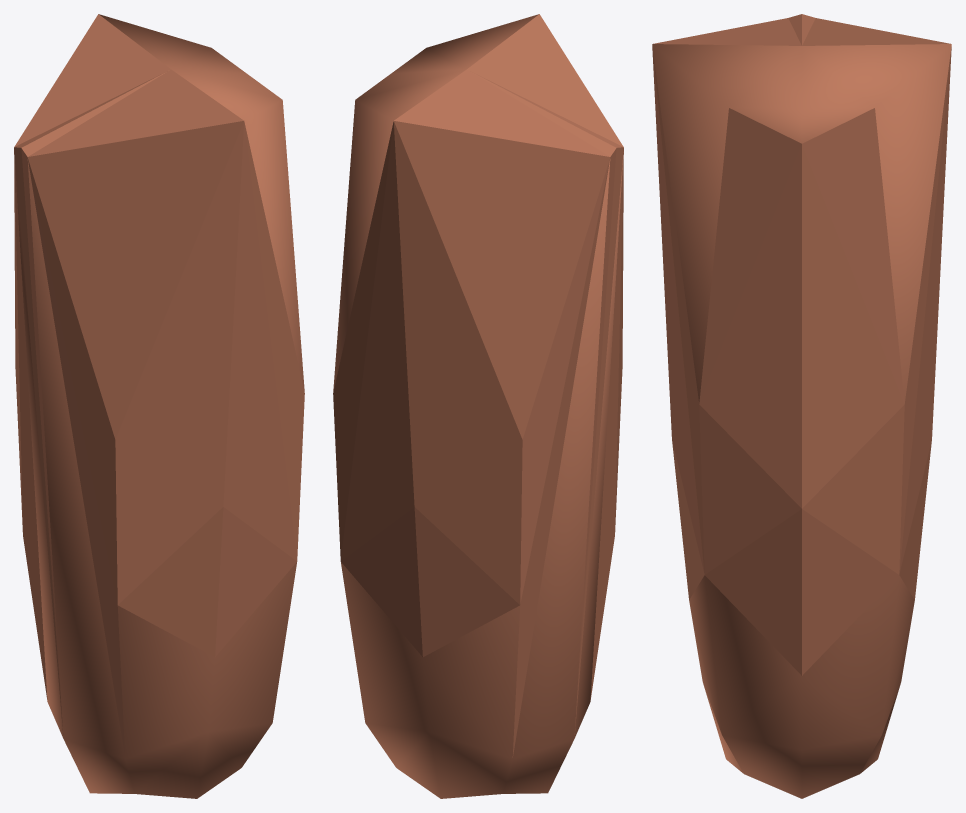
File: upper_leg_left.dae
The picture shows the model from 3 angles, left to right: view 1: azimuth 30°, elevation 25°; view 2: azimuth 150°, elevation 25°; view 3: azimuth 270°, elevation 25°; orthographic projection. The views are drawn at different scales.
Parts seen in each view (by area): view 1: Plane; view 2: Plane; view 3: Plane.
Boxes of the visible parts, <box> form: Plane: <box>14,14,304,798</box>; Plane: <box>333,14,623,798</box>; Plane: <box>652,14,951,798</box>.
Bounding box in the file's own units: 0.4495 × 0.4235 × 1.16.
